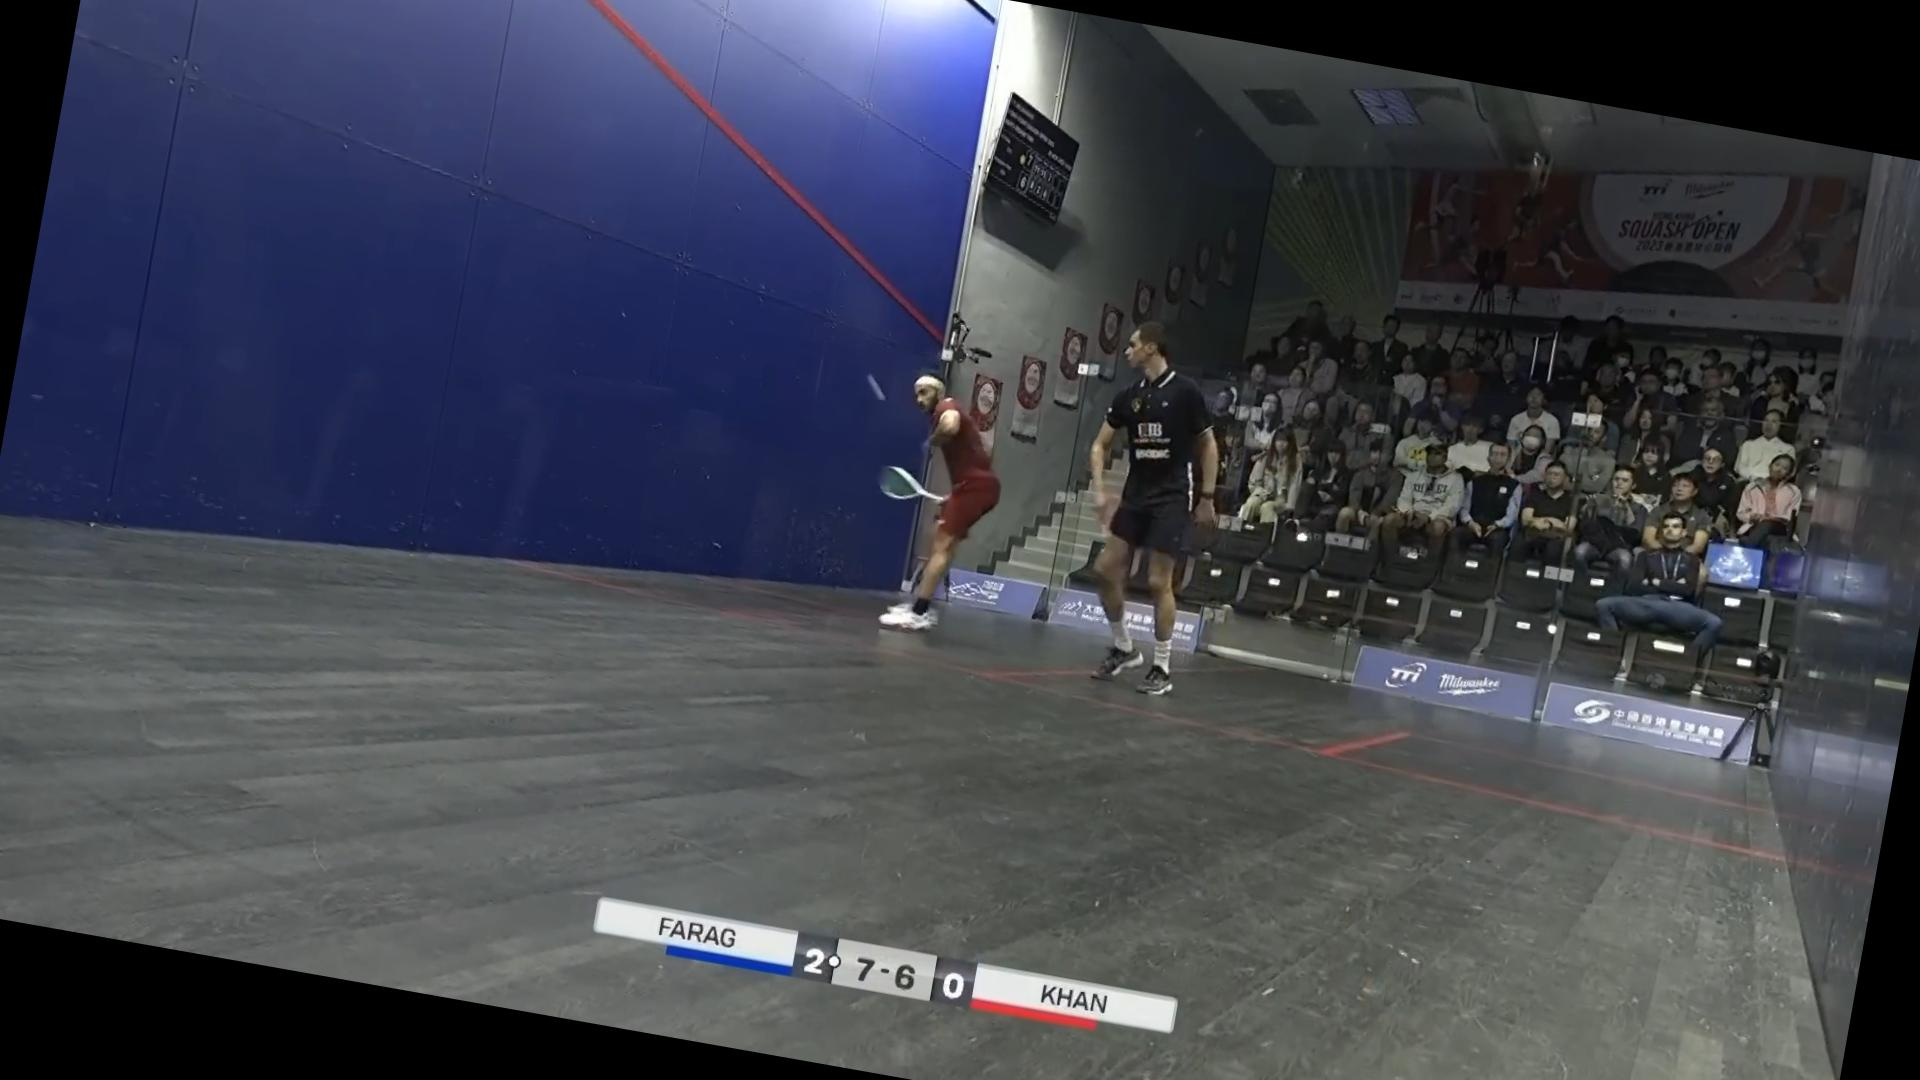Racket: (865, 452, 955, 518)
